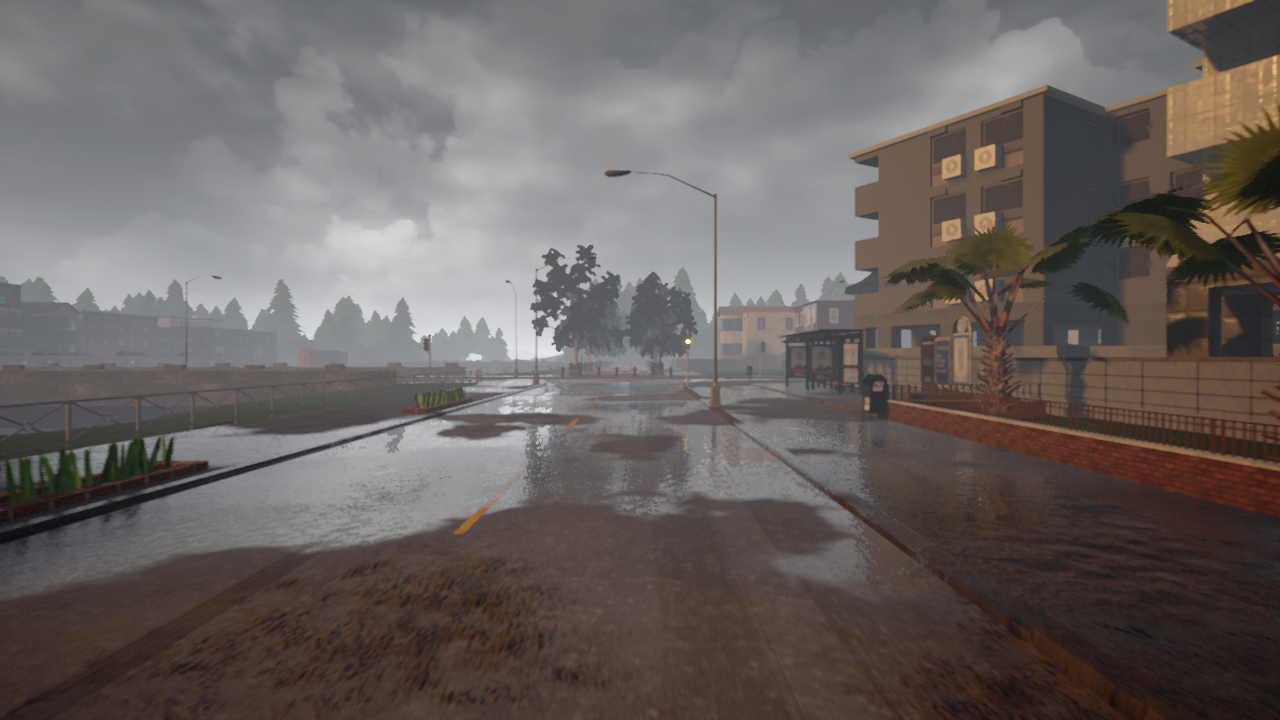yellow: (684, 333, 692, 351)
